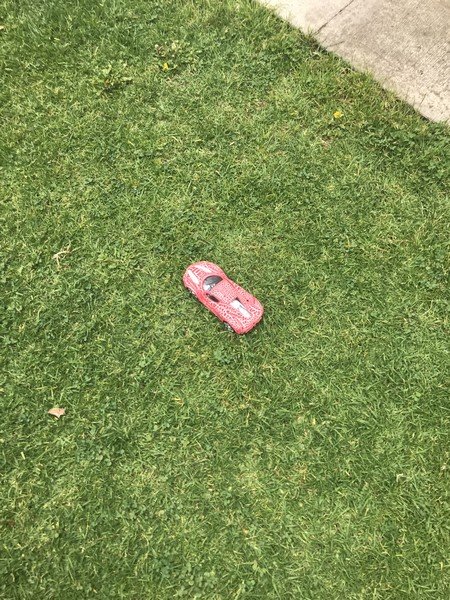RC: (180, 258, 266, 338)
